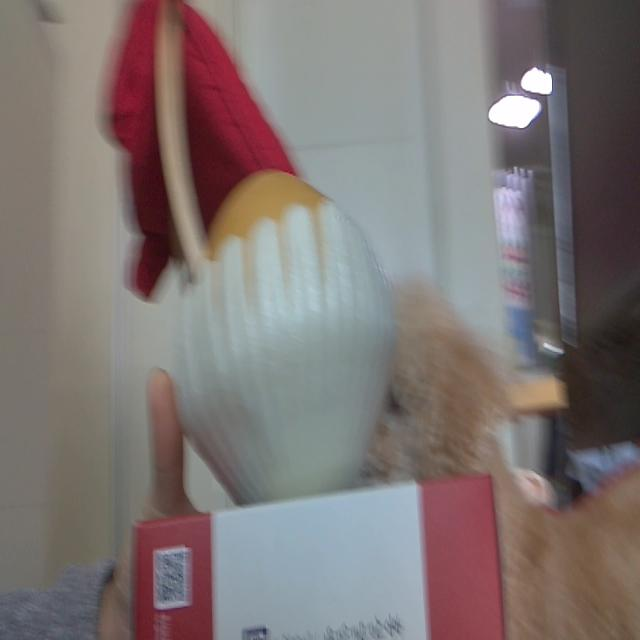pear: (169, 170, 392, 489)
